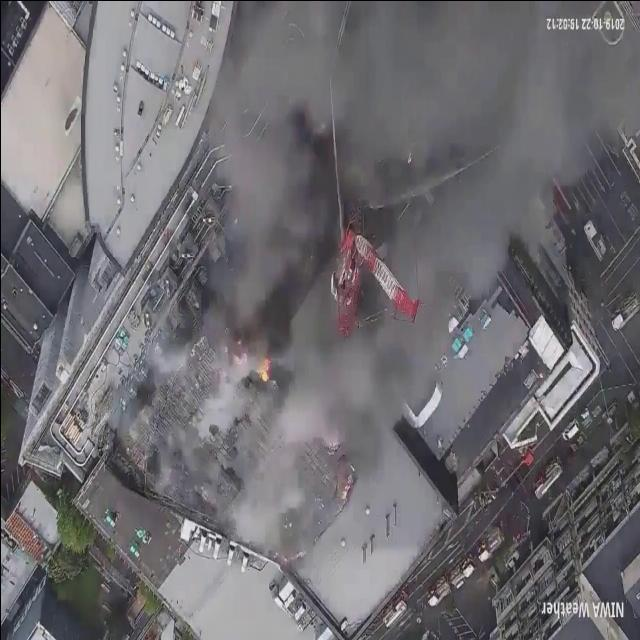Fire: (342, 470, 352, 500), (260, 356, 269, 384)
